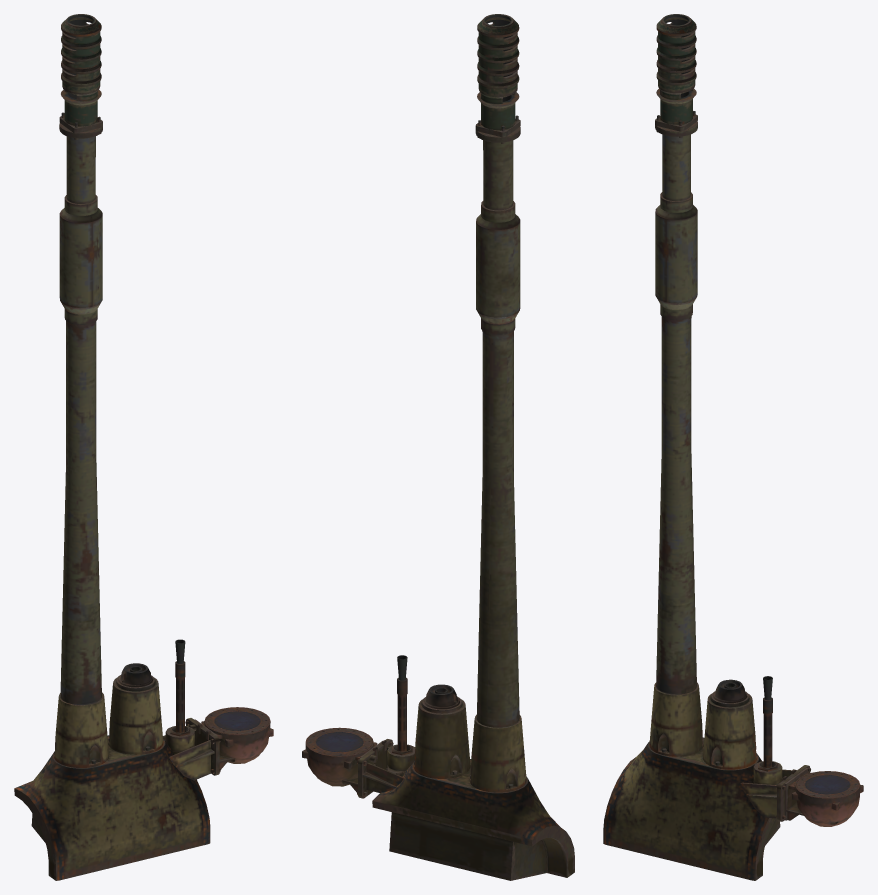
Rendered from Gun_06.glb.
The picture shows the model from 3 angles, left to right: view 1: azimuth 30°, elevation 25°; view 2: azimuth 150°, elevation 25°; view 3: azimuth 330°, elevation 25°; orthographic projection. The views are drawn at different scales.
Parts seen in each view (by area): view 1: set_0_group_0; view 2: set_0_group_0; view 3: set_0_group_0.
Boxes of the visible parts, x1=… form: set_0_group_0: x1=14, y1=14, x2=273, y2=880; set_0_group_0: x1=302, y1=14, x2=574, y2=880; set_0_group_0: x1=603, y1=14, x2=863, y2=880.
Size of the model in its own units: 1.53 by 5.2 by 0.4947.
Materials: 1 (1 with a texture image).
